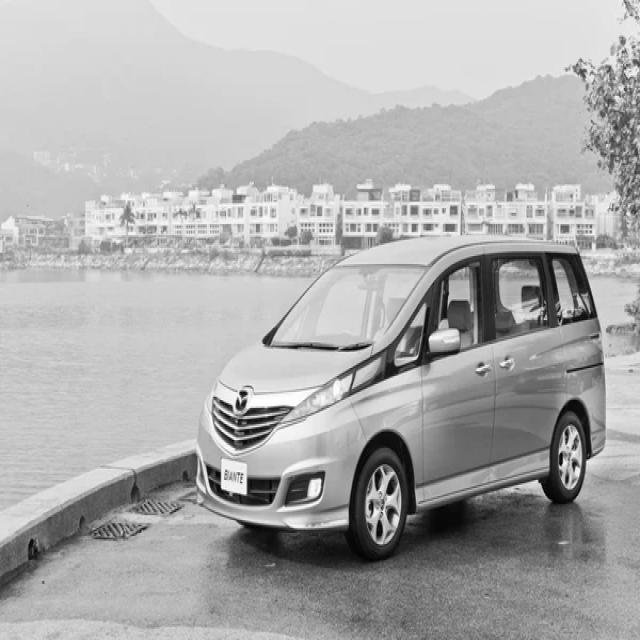Car: (196, 238, 608, 561)
